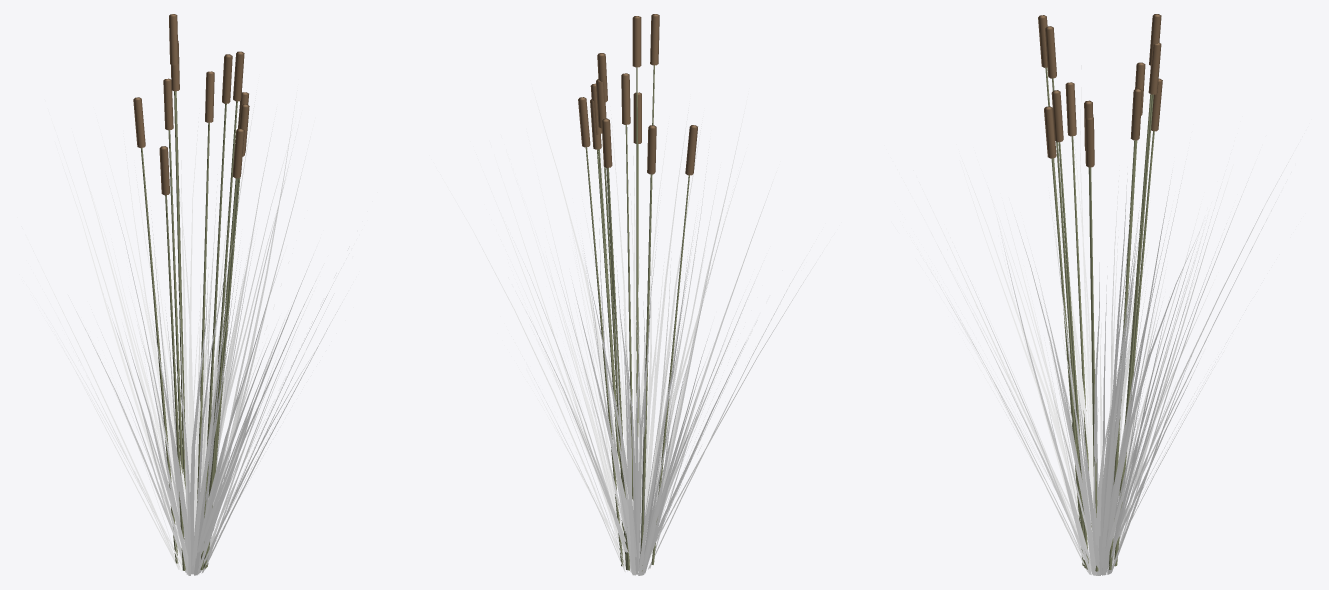
File: reeds.glb
3 views of the same model, side by side, from view 1: azimuth 30°, elevation 25°; view 2: azimuth 150°, elevation 25°; view 3: azimuth 270°, elevation 25° (orthographic). The views are drawn at different scales.
Parts seen in each view (by area): view 1: reeds_2, reeds_1, reeds_0; view 2: reeds_2, reeds_1, reeds_0; view 3: reeds_1, reeds_2, reeds_0.
Boxes of the visible parts, x1,y1,x2,y2 form: reeds_2: (35,14,349,574); reeds_1: (21,41,310,574); reeds_0: (90,54,347,575); reeds_2: (498,16,816,575); reeds_1: (476,79,822,575); reeds_0: (440,14,750,574); reeds_1: (897,43,1304,574); reeds_2: (913,14,1252,575); reeds_0: (933,15,1223,575).
Bounding box in the file's own units: 1.19 × 1.93 × 1.37.
